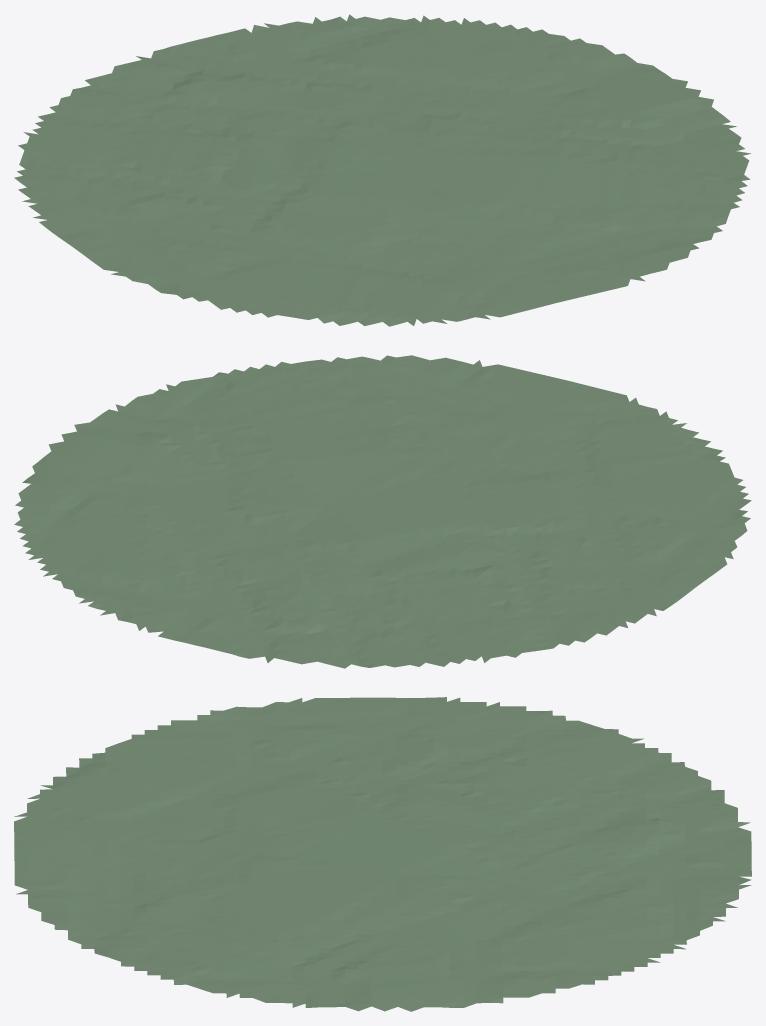
File: Terrain.fbx
3 renders of one model, top to bottom at view 1: azimuth 30°, elevation 25°; view 2: azimuth 150°, elevation 25°; view 3: azimuth 270°, elevation 25°, orthographic.
Visible parts, largest first — view 1: UE5_R100_Terrain; view 2: UE5_R100_Terrain; view 3: UE5_R100_Terrain.
Part boxes in pixels (<box>): UE5_R100_Terrain: <box>14,14,750,326</box>; UE5_R100_Terrain: <box>14,355,751,668</box>; UE5_R100_Terrain: <box>14,697,751,1011</box>.
Size of the model in its own units: 26120 by 170 by 25912.
